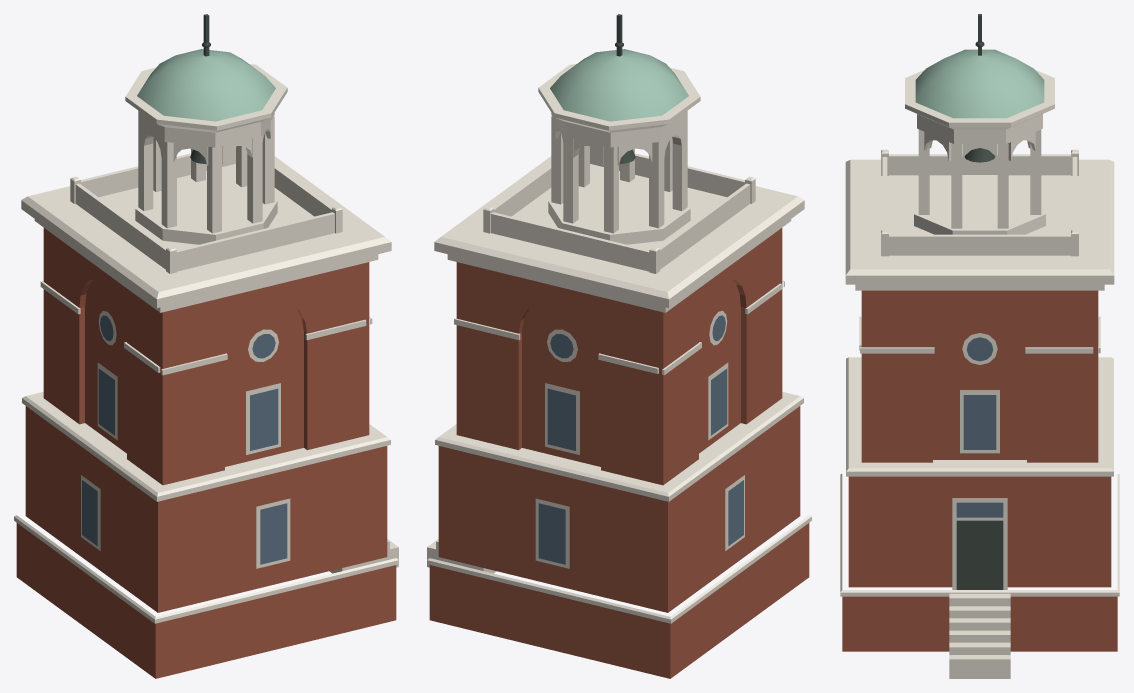
Rendered from ric-capitol-bell-tower.glb.
The picture shows the model from 3 angles, left to right: view 1: azimuth 30°, elevation 25°; view 2: azimuth 150°, elevation 25°; view 3: azimuth 270°, elevation 25°; orthographic projection.
Visible parts, largest first — view 1: Bell Tower, Capitol Square; view 2: Bell Tower, Capitol Square; view 3: Bell Tower, Capitol Square.
Part boxes in pixels (x1,y1,x2,y2): Bell Tower, Capitol Square: [14, 14, 398, 678]; Bell Tower, Capitol Square: [427, 14, 811, 678]; Bell Tower, Capitol Square: [840, 14, 1119, 678].
Bounding box in the file's own units: 10.56 × 19.7 × 8.62.
